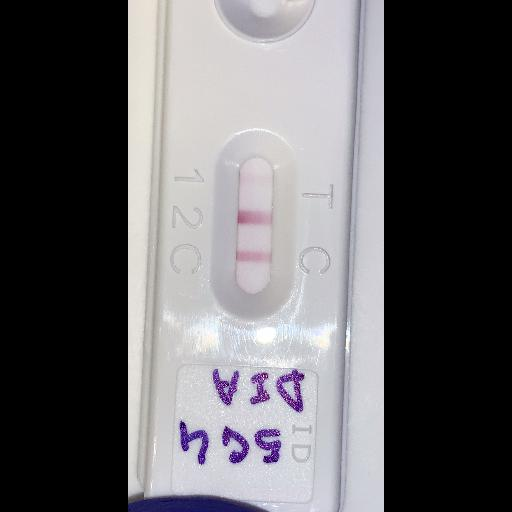Pos: (162, 0, 345, 511)
